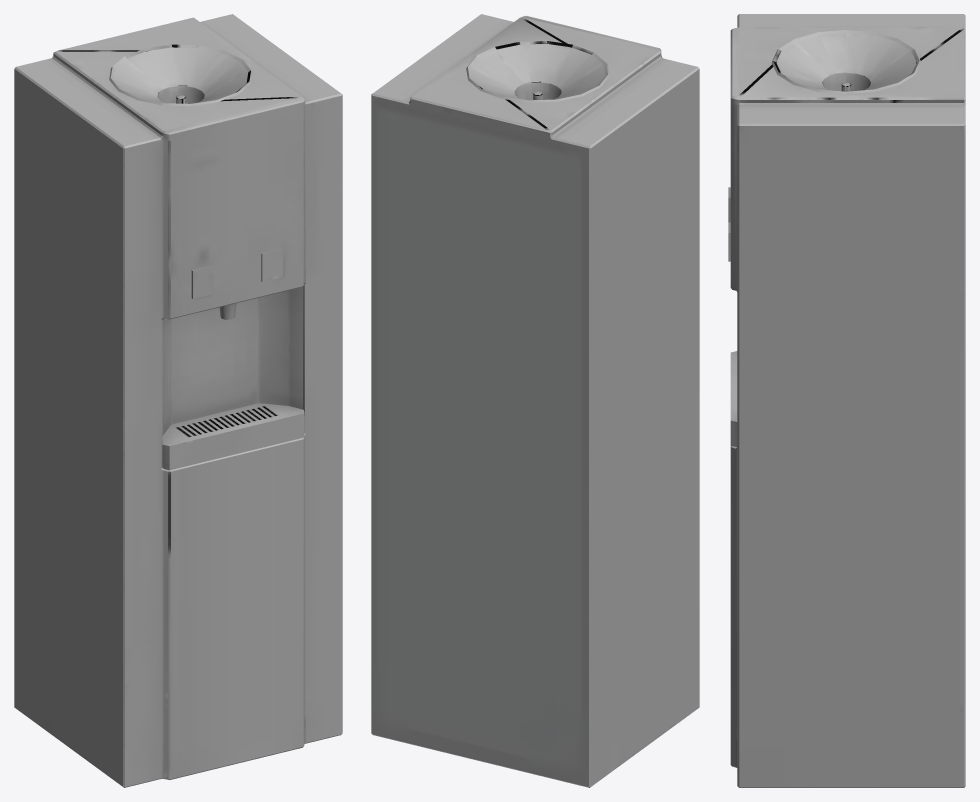
File: cooler.glb
3 renders of one model, left to right at view 1: azimuth 30°, elevation 25°; view 2: azimuth 150°, elevation 25°; view 3: azimuth 270°, elevation 25°, orthographic. The views are drawn at different scales.
Parts seen in each view (by area): view 1: Water Dispenser.001; view 2: Water Dispenser.001; view 3: Water Dispenser.001.
Part boxes in pixels (box(x1,y1,x2,y2)): Water Dispenser.001: box(14, 14, 342, 787); Water Dispenser.001: box(371, 14, 699, 787); Water Dispenser.001: box(728, 14, 965, 787).
Size of the model in its own units: 0.456 by 1.29 by 0.4119.
Materials: 1 (1 with a texture image).
